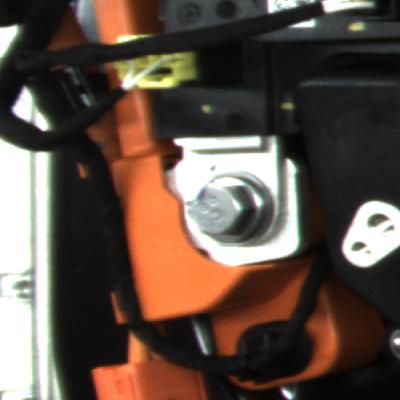nut_b: (178, 163, 281, 254)
